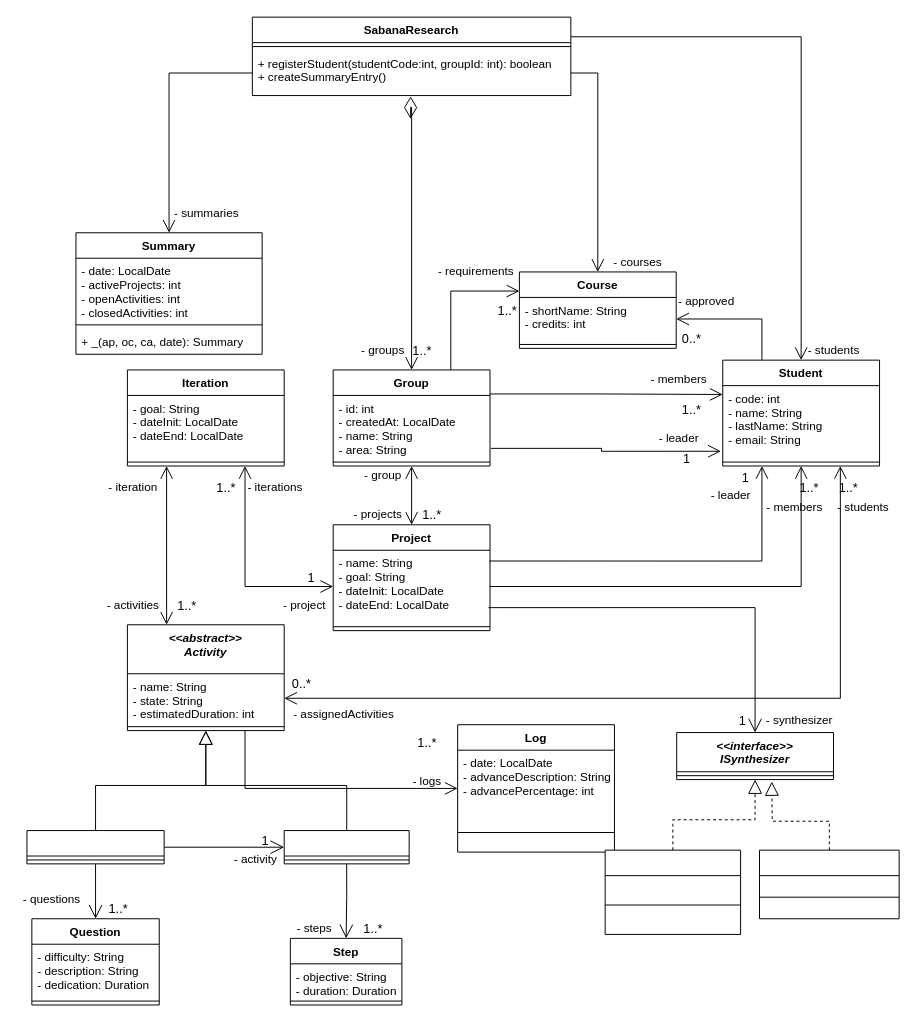
The diagram is 916 pixels wide and 1022 high, and some of its shapes have lost their labels. Here are the shapes that lost their labels. From the top down, the centre of each, then its label:
point (95, 847): DocumentedActivity
point (346, 847): NormalActivity
point (672, 891): StudentSynthesizer
point (829, 884): ExecutiveSynthesizer
